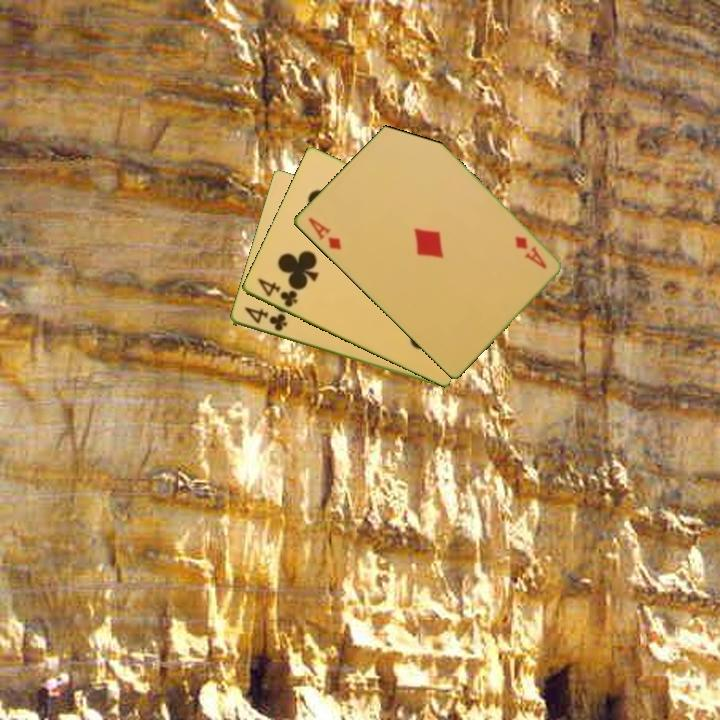4c: (253, 275, 300, 310), (240, 304, 290, 334)
Ad: (304, 213, 344, 253), (511, 232, 549, 272)
